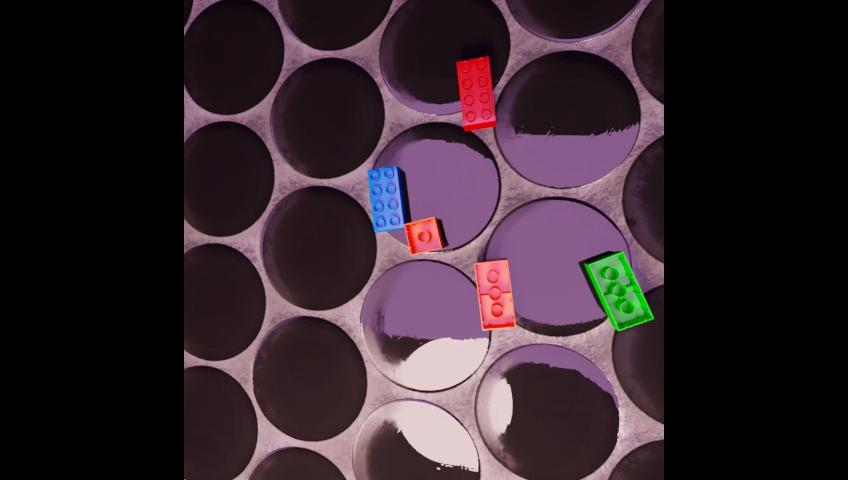2x2_orange: (403, 217, 443, 255)
4x2_blue: (366, 166, 407, 232)
4x2_green: (583, 252, 653, 330)
4x2_orange: (473, 260, 515, 330)
4x2_red: (456, 57, 495, 131)
